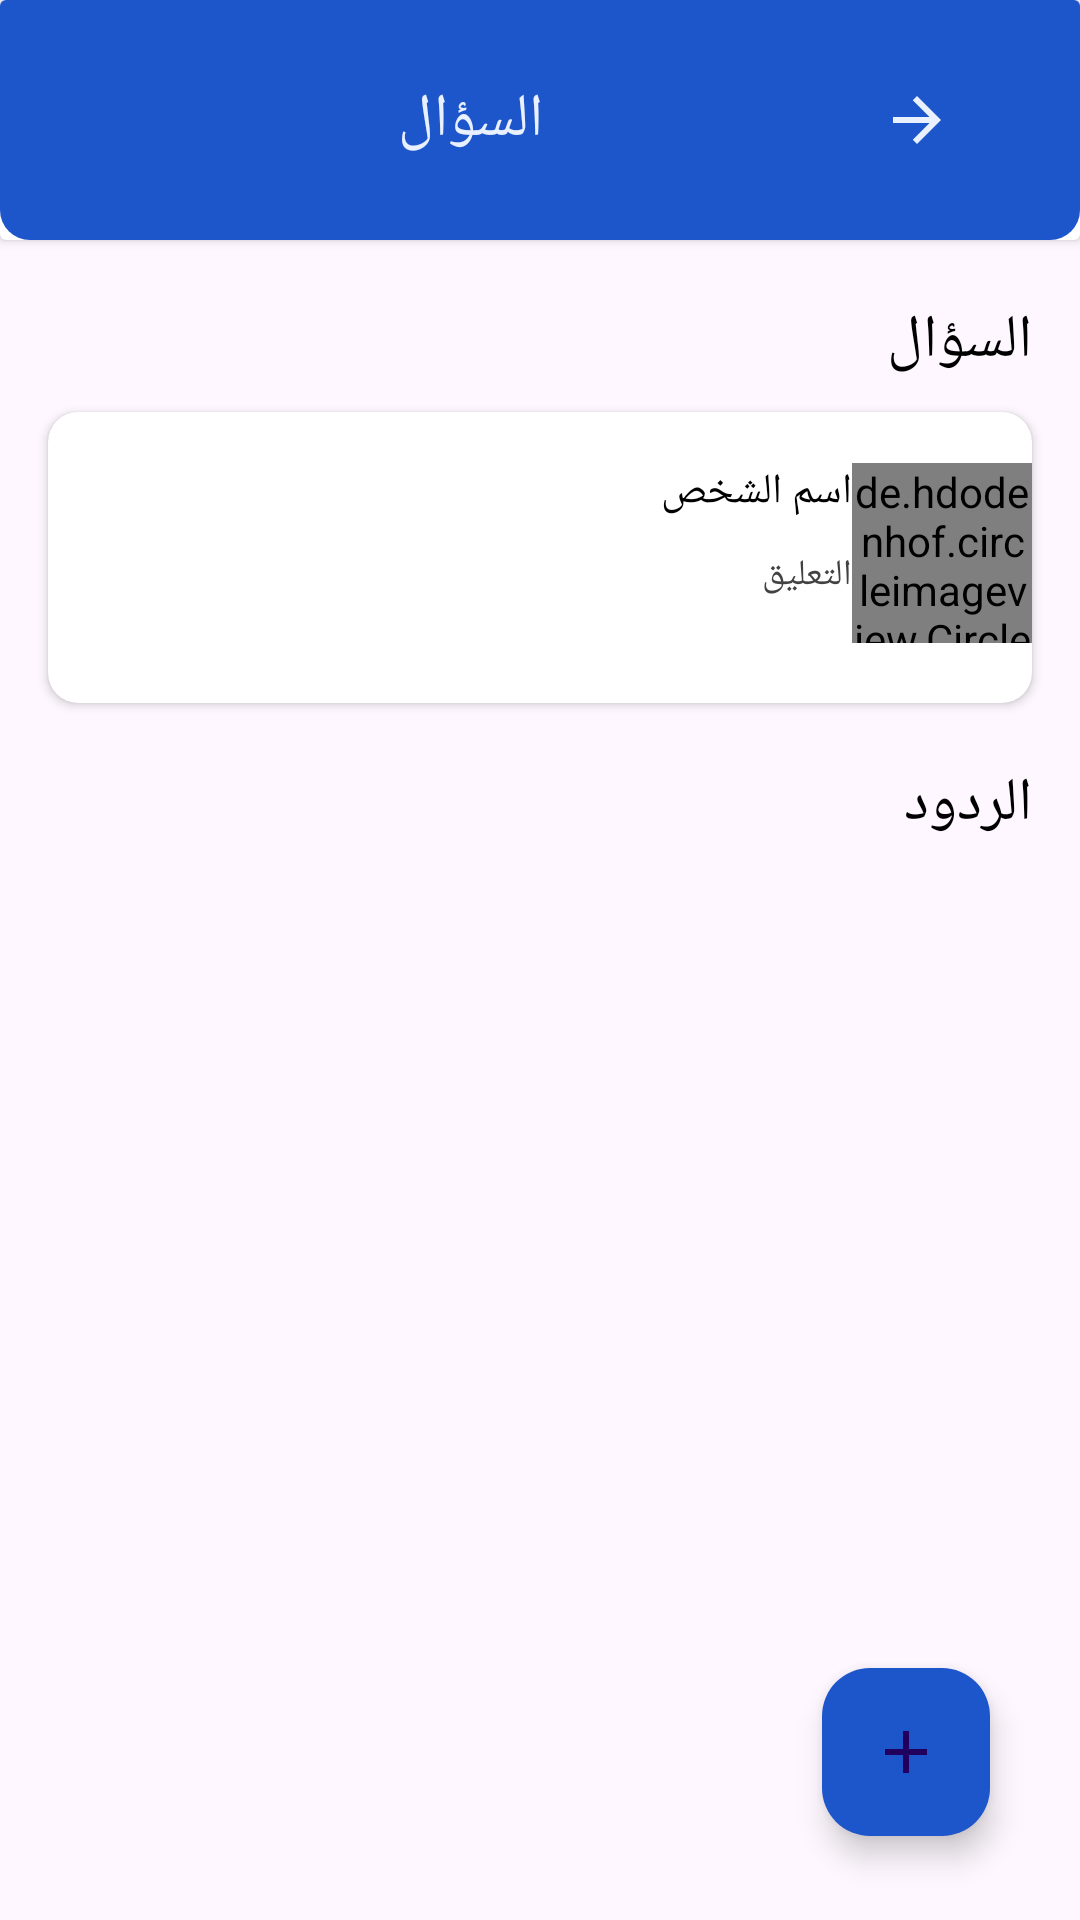

Icon click points for this 1080px x 1920px phone screenshot, format (x=x, y=y):
add: (x=906, y=1752)
